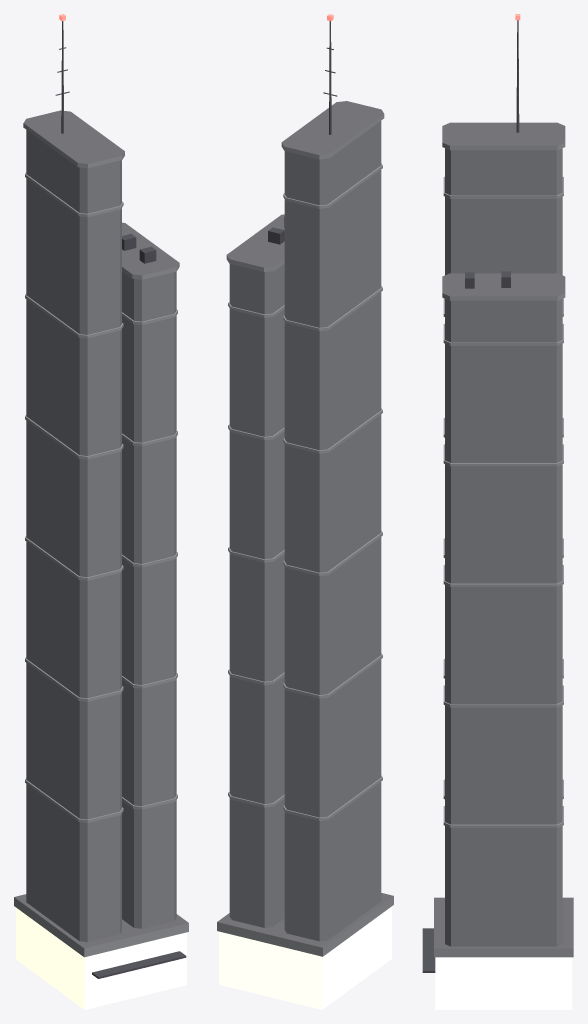
Rendered from r1214_twin.glb.
3 renders of one model, left to right at view 1: azimuth 30°, elevation 25°; view 2: azimuth 150°, elevation 25°; view 3: azimuth 270°, elevation 25°, orthographic.
Parts seen in each view (by area): view 1: r1214_twin; view 2: r1214_twin; view 3: r1214_twin.
Boxes of the visible parts, bbox=[...] form: r1214_twin: bbox=[14, 14, 188, 1009]; r1214_twin: bbox=[217, 14, 393, 1009]; r1214_twin: bbox=[422, 14, 573, 1009].
Size of the model in its own units: 12.3 by 108 by 15.49.
